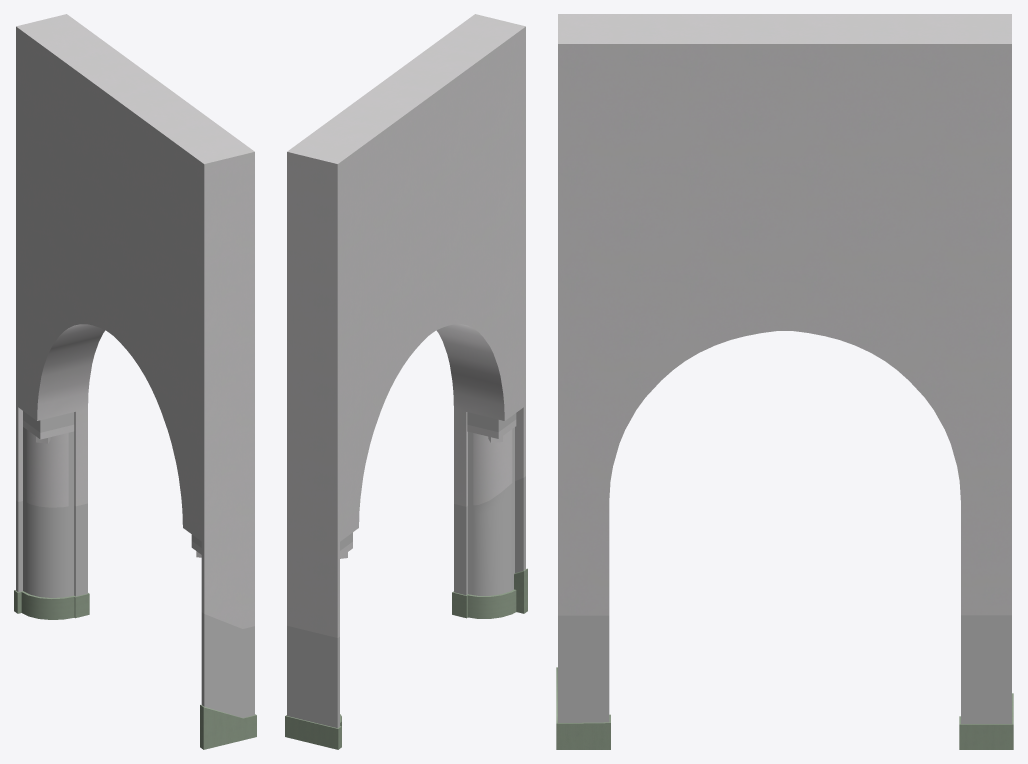
Rendered from SM_Wall_Arched_2.fbx.
The picture shows the model from 3 angles, left to right: view 1: azimuth 30°, elevation 25°; view 2: azimuth 150°, elevation 25°; view 3: azimuth 270°, elevation 25°; orthographic projection. The views are drawn at different scales.
Parts seen in each view (by area): view 1: SM_Wall_Arched_2; view 2: SM_Wall_Arched_2; view 3: SM_Wall_Arched_2.
Boxes of the visible parts, x1,y1,x2,y2 form: SM_Wall_Arched_2: (14, 14, 256, 749); SM_Wall_Arched_2: (285, 14, 527, 749); SM_Wall_Arched_2: (556, 14, 1013, 749).
Bounding box in the file's own units: 69.73 × 431 × 734.
